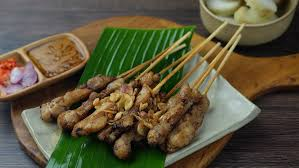sate: (38, 54, 212, 155)
